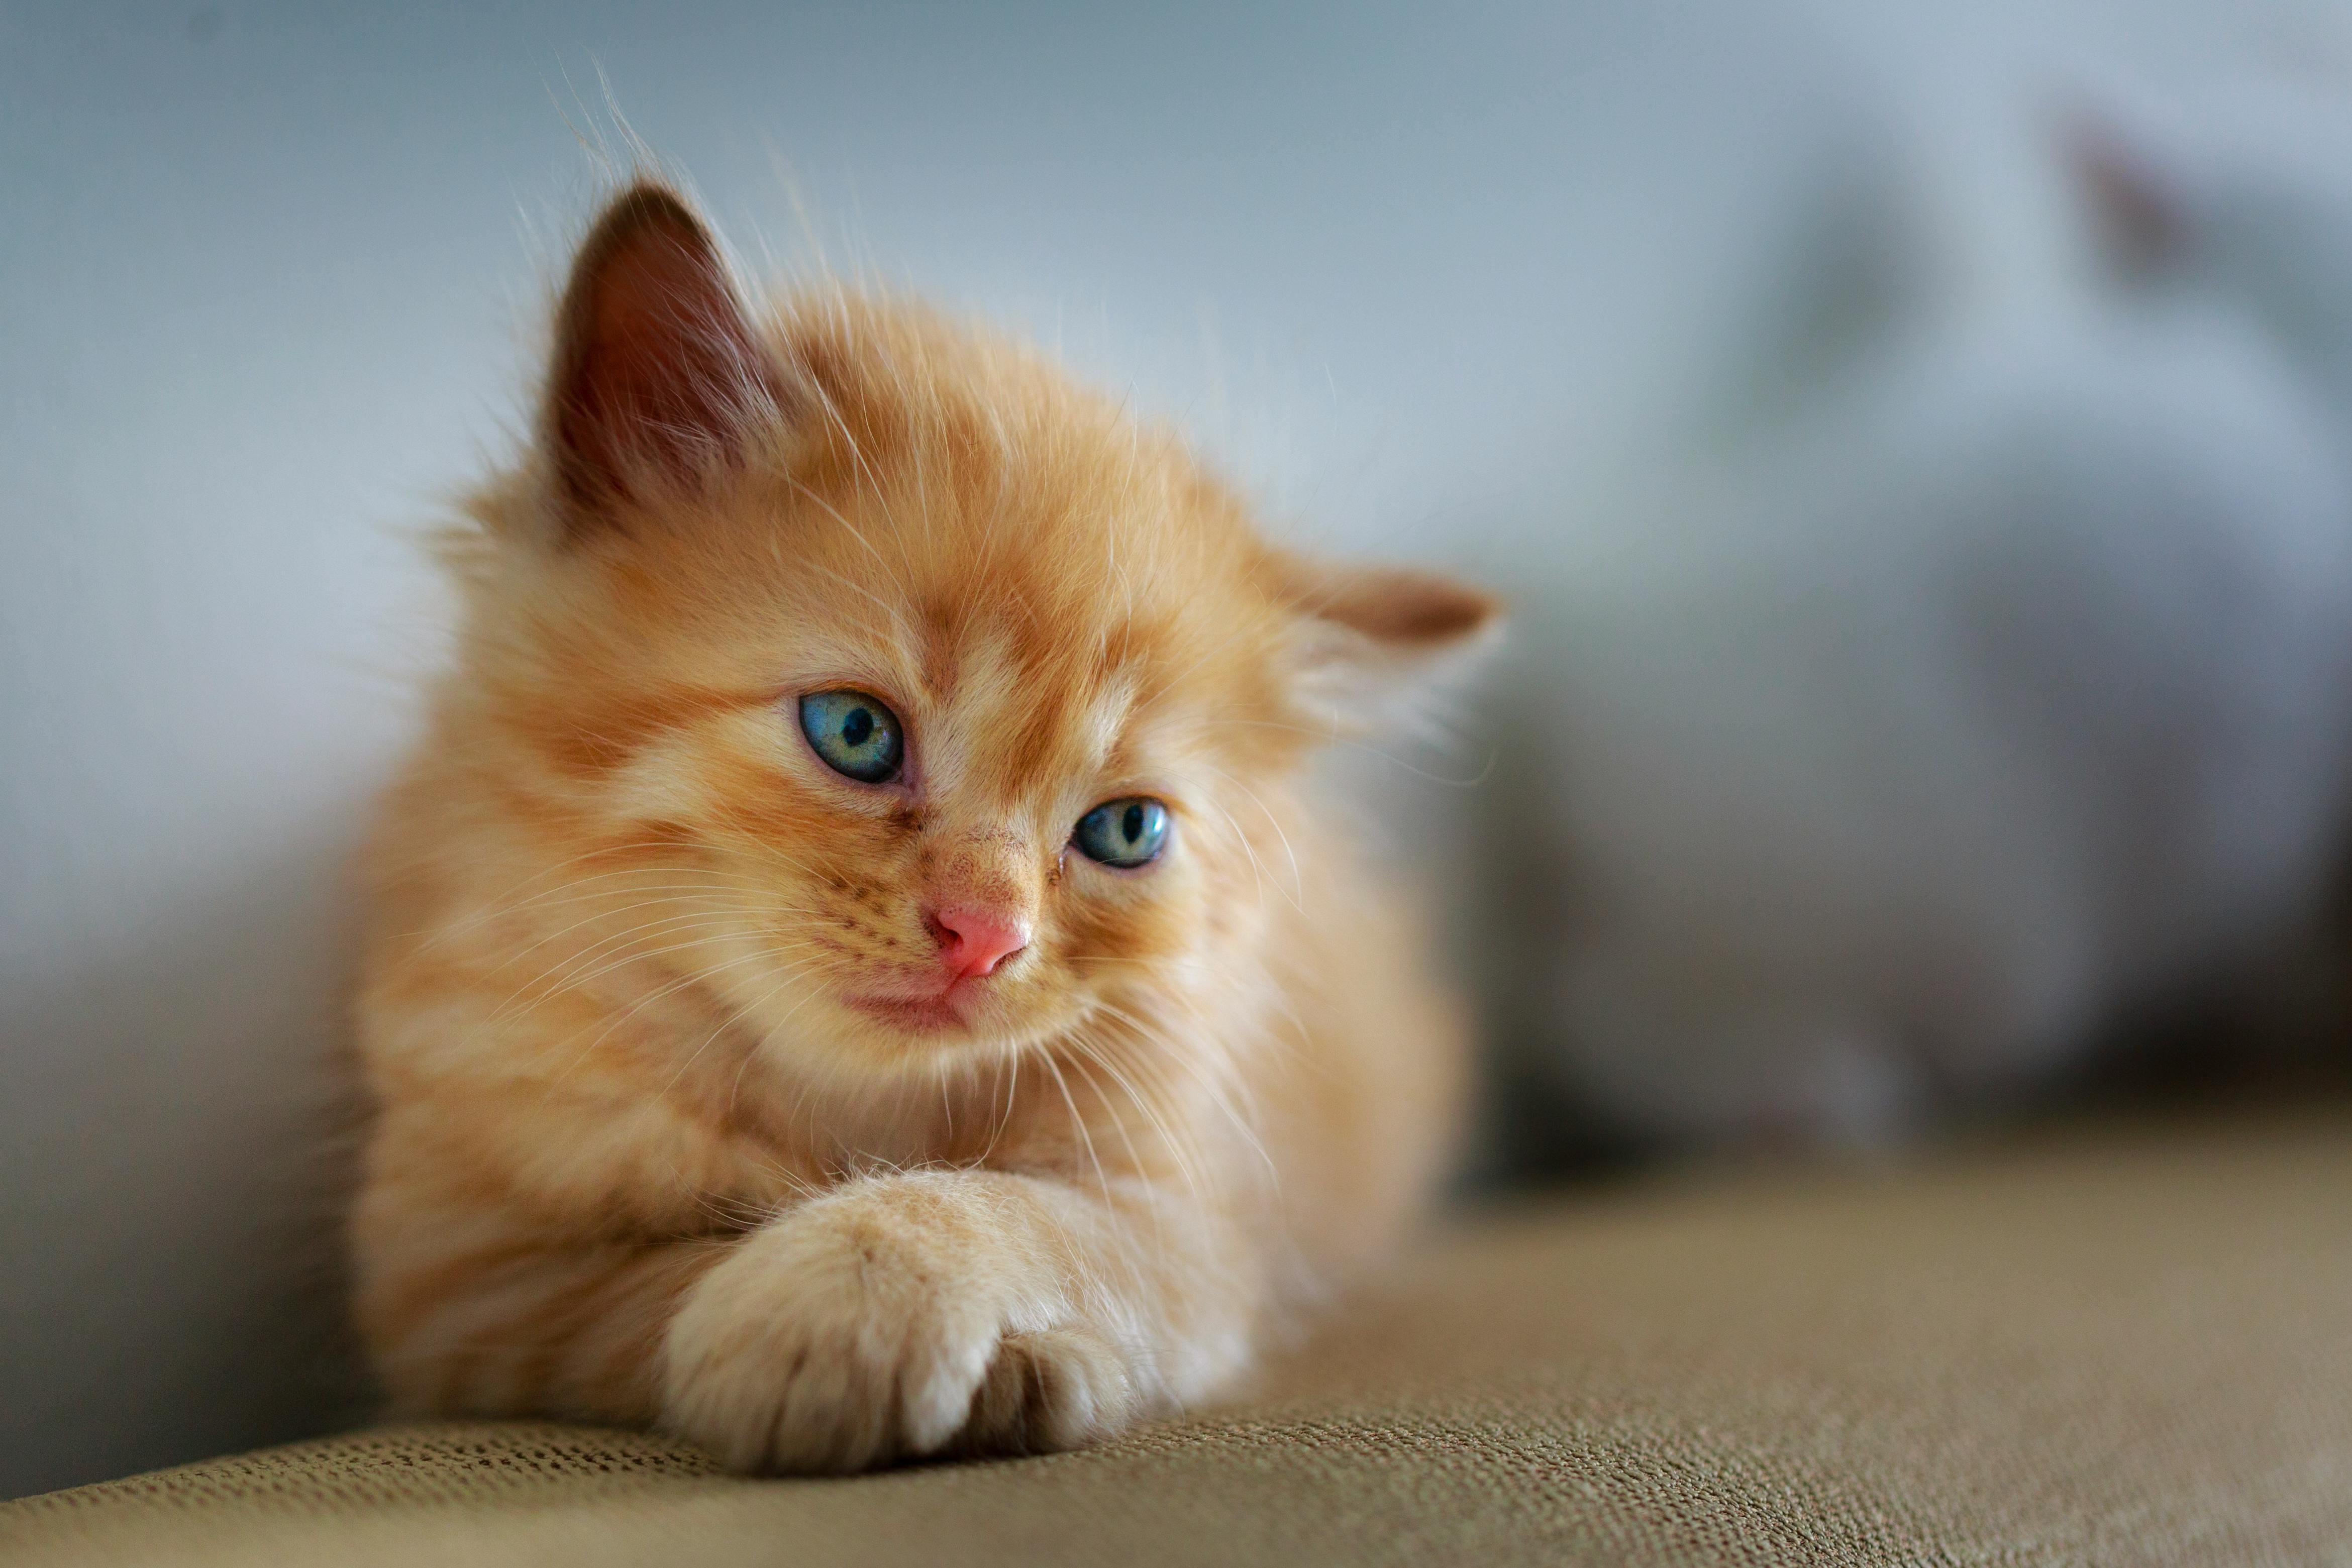kedo: (341, 178, 1298, 1461)
